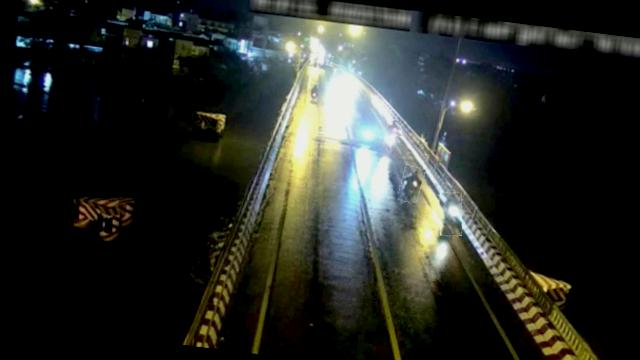Bike: (435, 190, 465, 238), (396, 164, 424, 204), (385, 119, 403, 138)
